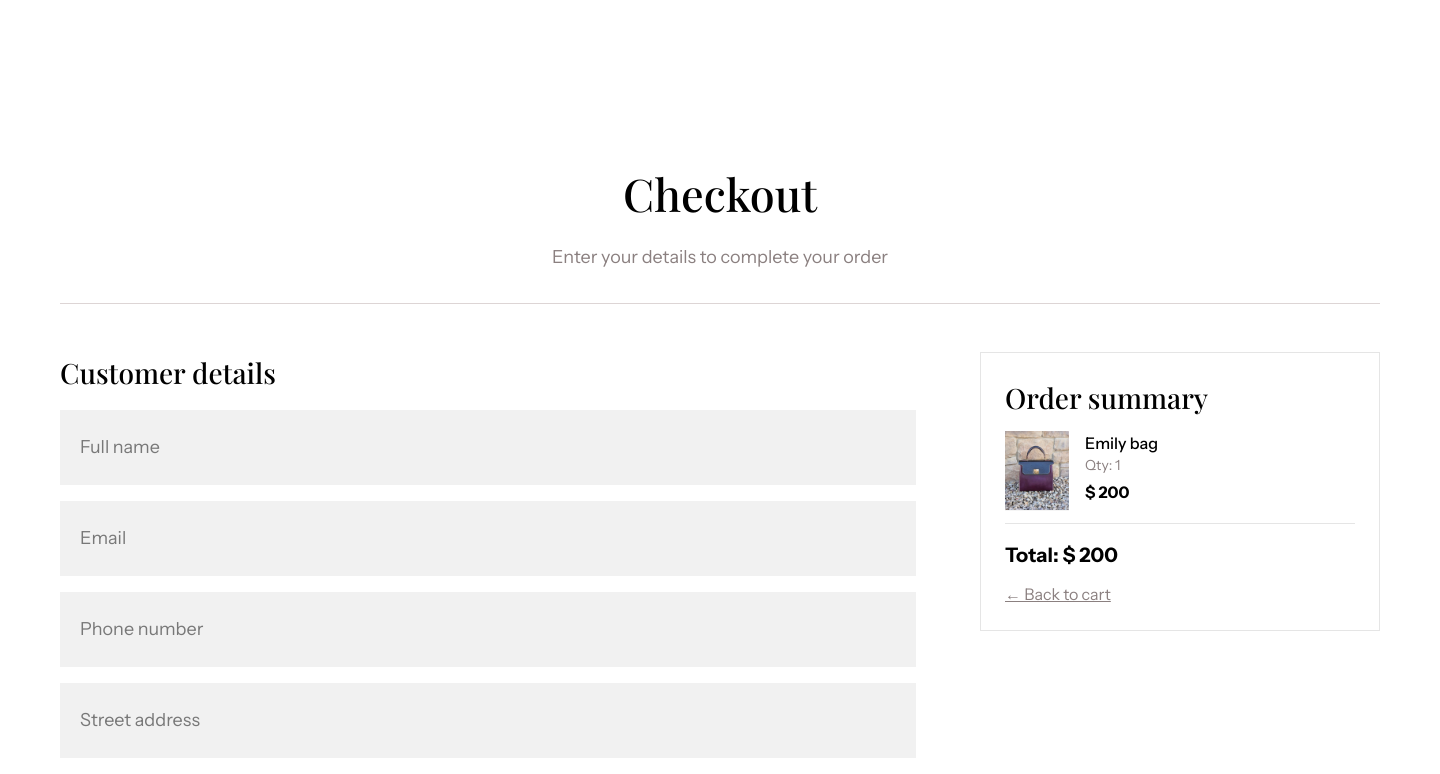
Scenario: CheckoutSection › submits checkout with customer details
Expected: the list item with test id "checkout-item-catalog-1" is shown, [1005,430,1158,510]
Step 1. Type "Jane Doe" into the field with placeholder "Full name" → [488, 447], box [60,410,916,484]
Step 2. Type "jane@example.com" into the field with placeholder "Email" → [488, 538], box [60,500,916,576]
Step 3. Type "+61 400 000 000" into the field with placeholder "Phone number" → [488, 629], box [60,592,916,666]
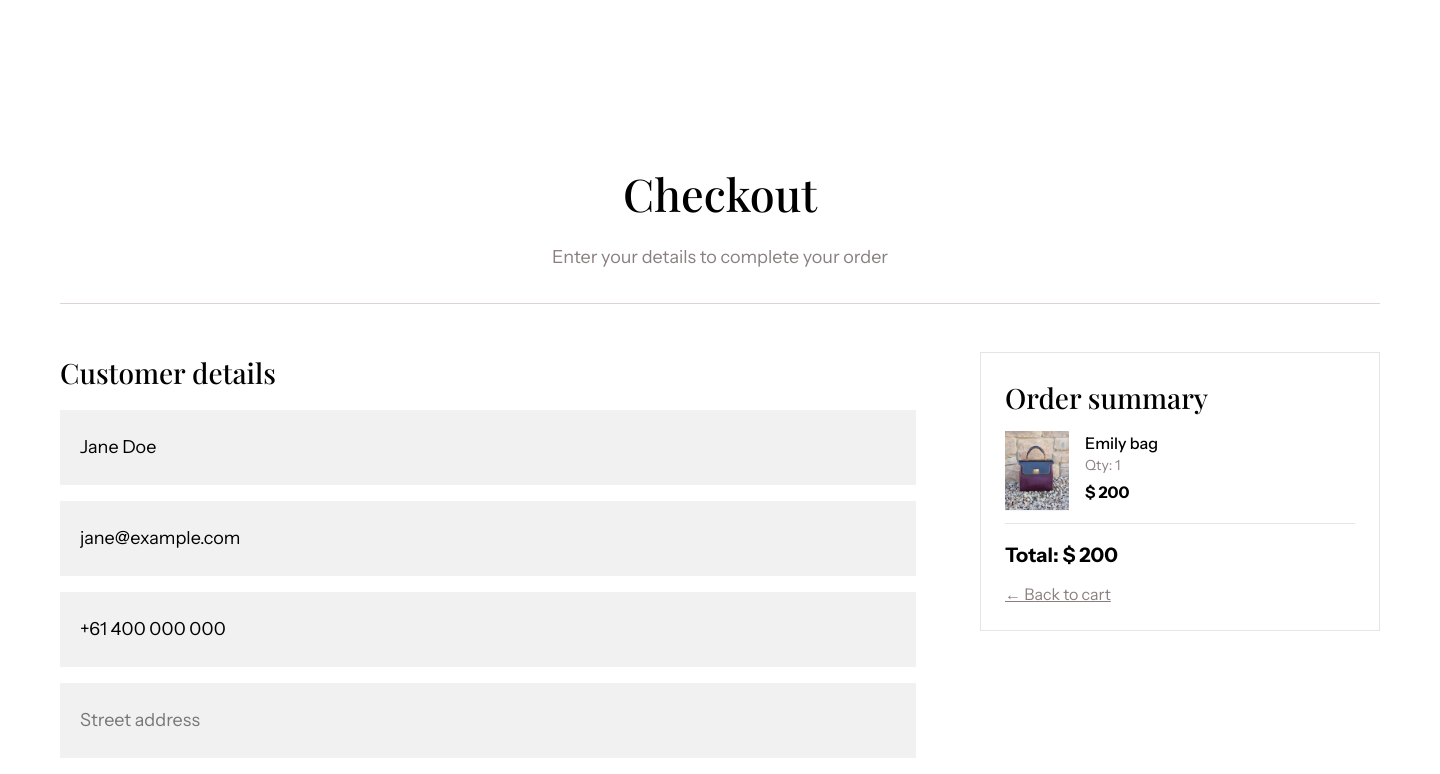
Step 4. Type "12 Leather Lane" into the field with placeholder "Street address" → [488, 720], box [60,682,916,758]
(page scrolled)
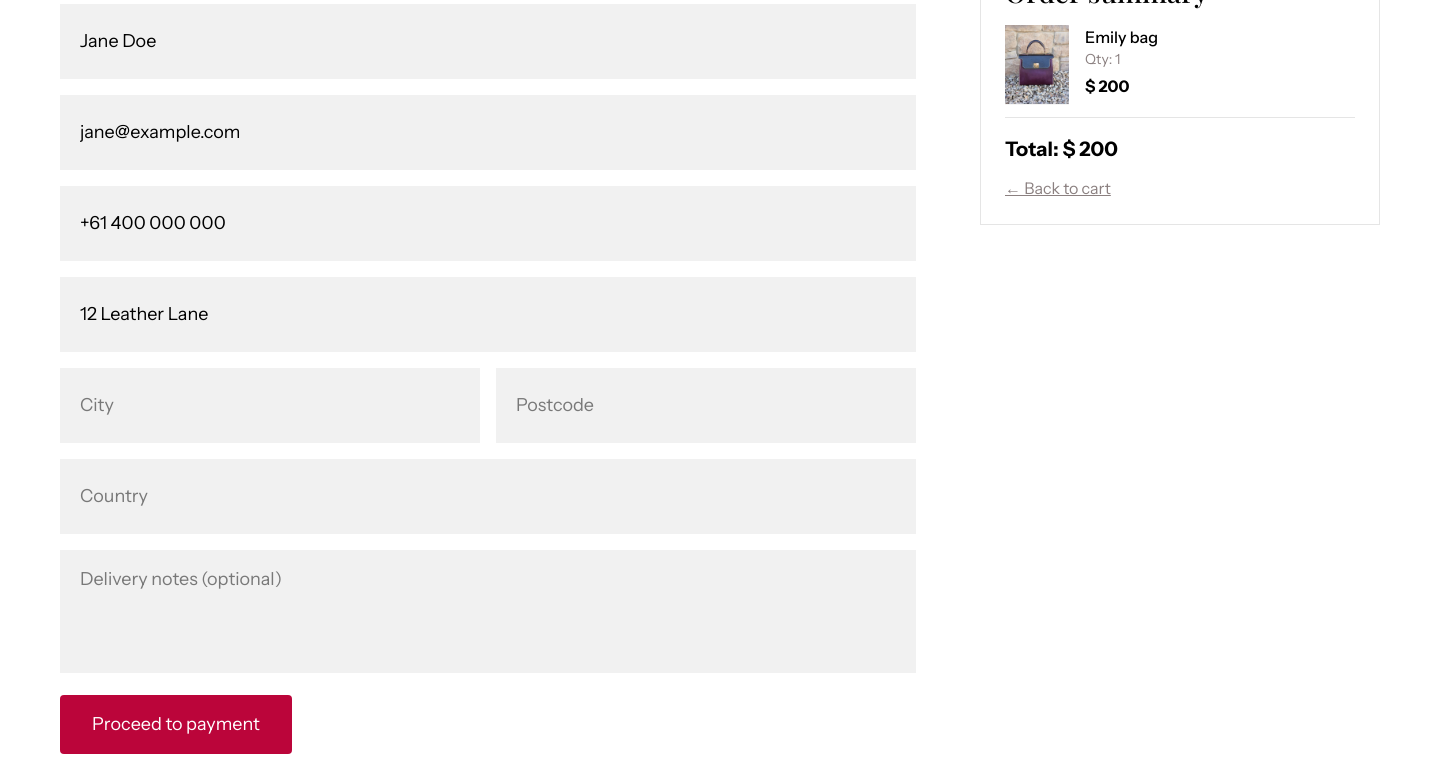
Step 5. Type "Sydney" into the field with placeholder "City" → [270, 405], box [60,368,480,442]
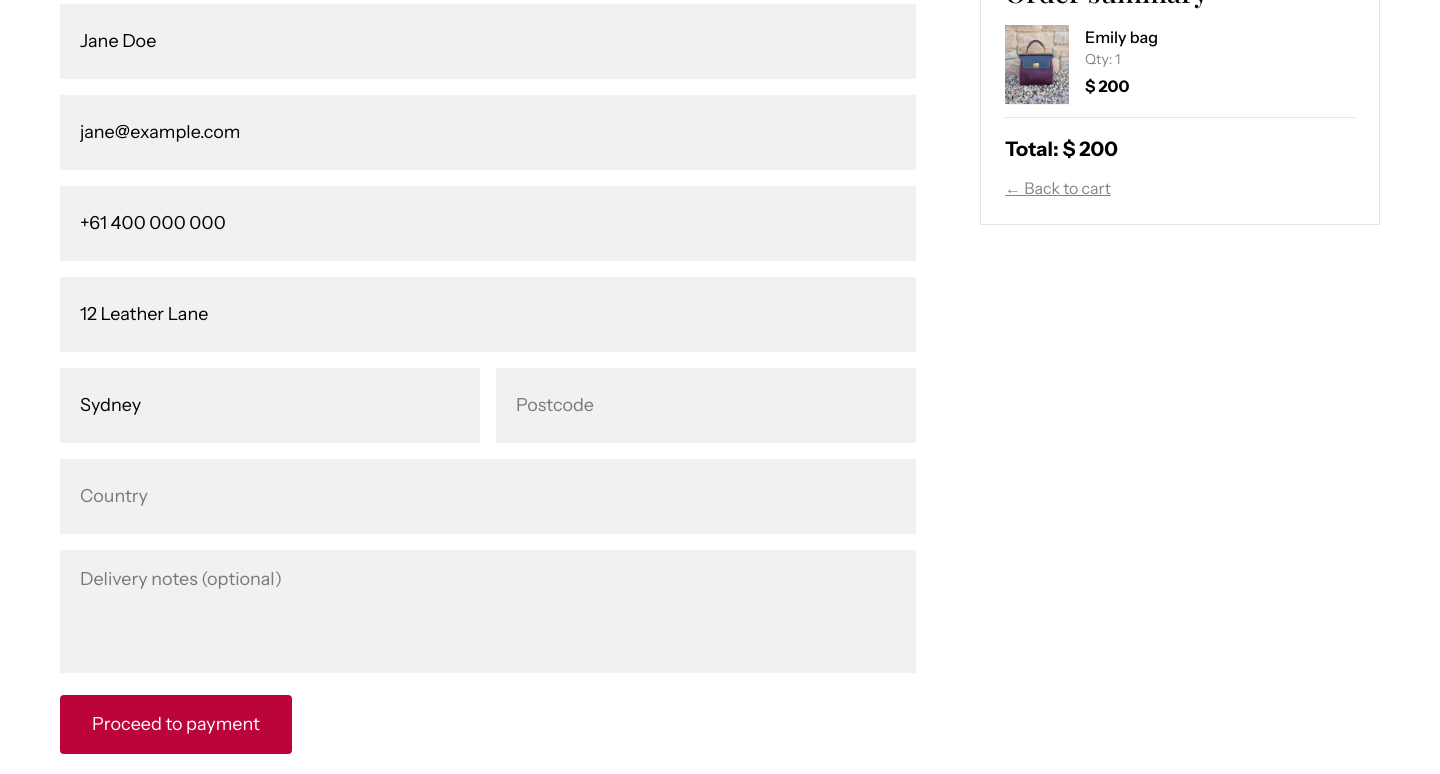
Step 6. Type "2000" into the field with placeholder "Postcode" → [706, 405], box [496,368,916,442]
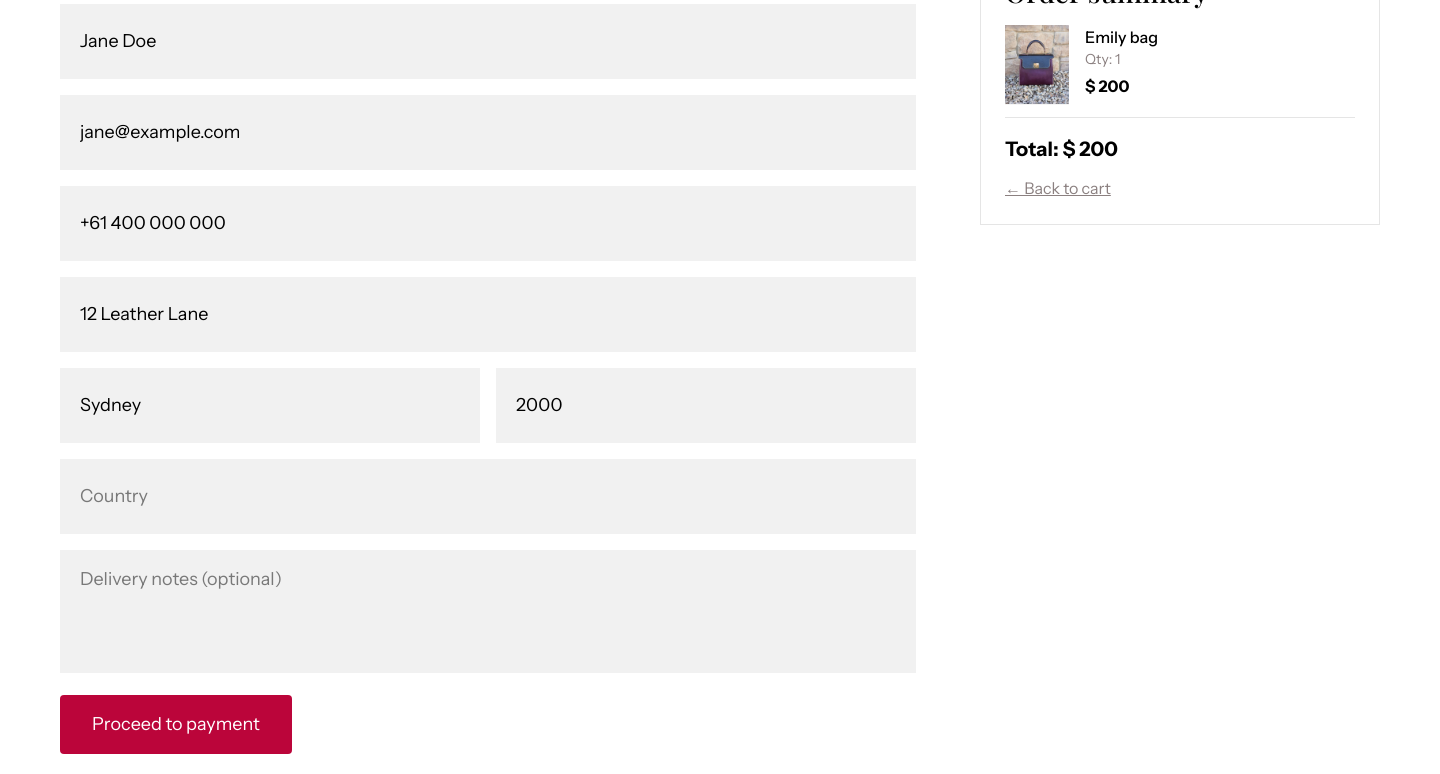
Step 7. Type "Australia" into the field with placeholder "Country" → [488, 496], box [60,458,916,534]
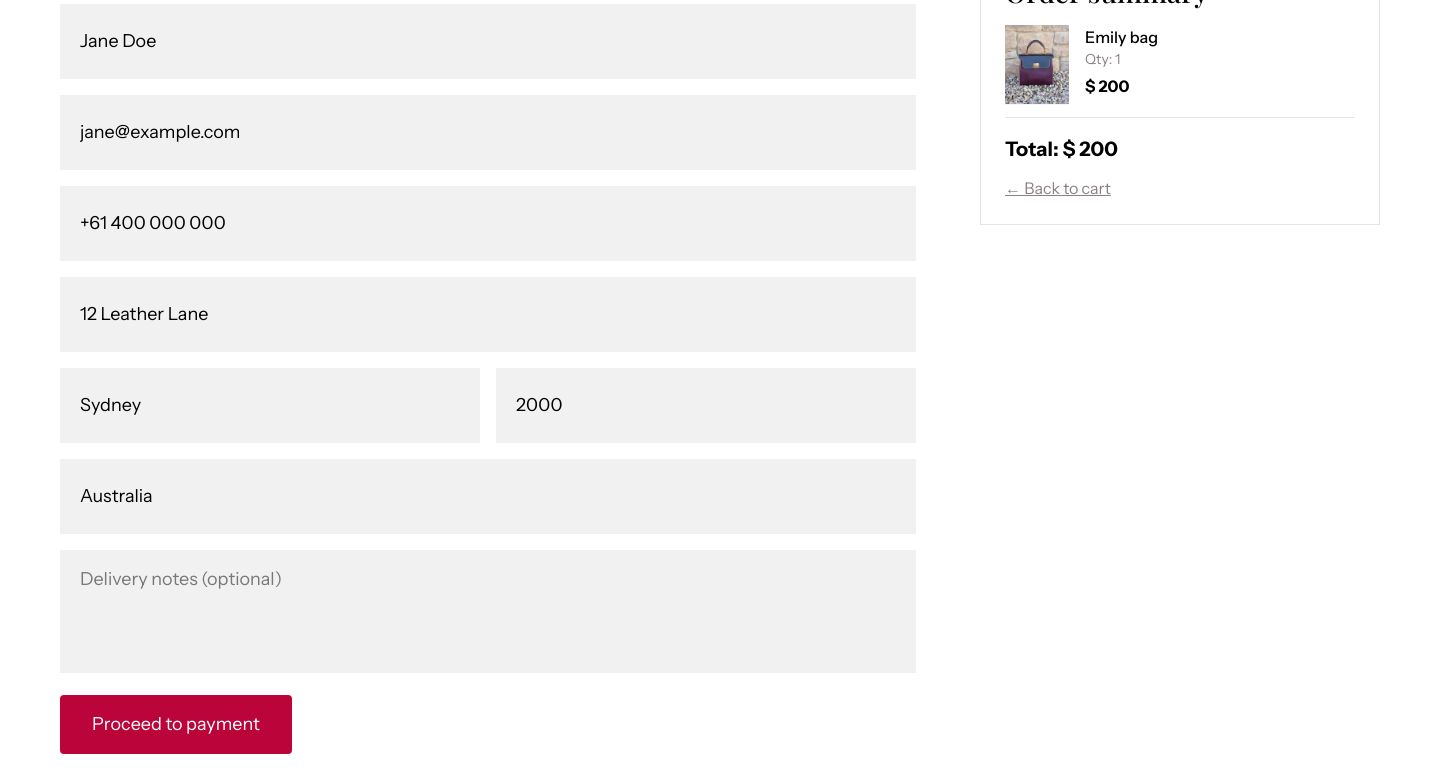
Step 8. Click the button "Proceed to payment" → [176, 724], box [60,694,292,754]
(page scrolled)
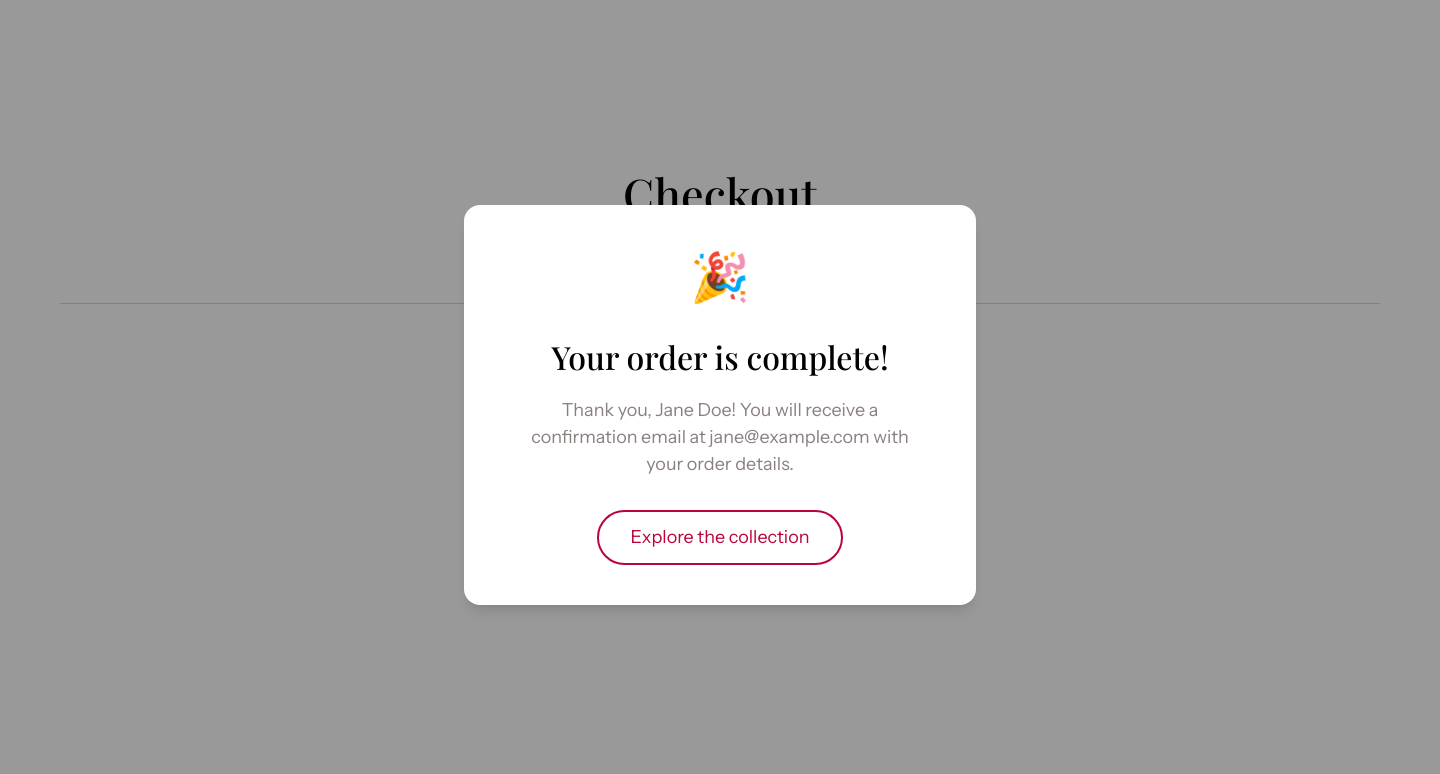
Expected: the dialog is shown, [464,205,976,605]
Expected: the heading "Your order is complete!" is shown, [551,335,889,378]
Expected: the message shows "jane@example.com", [709,426,870,448]
